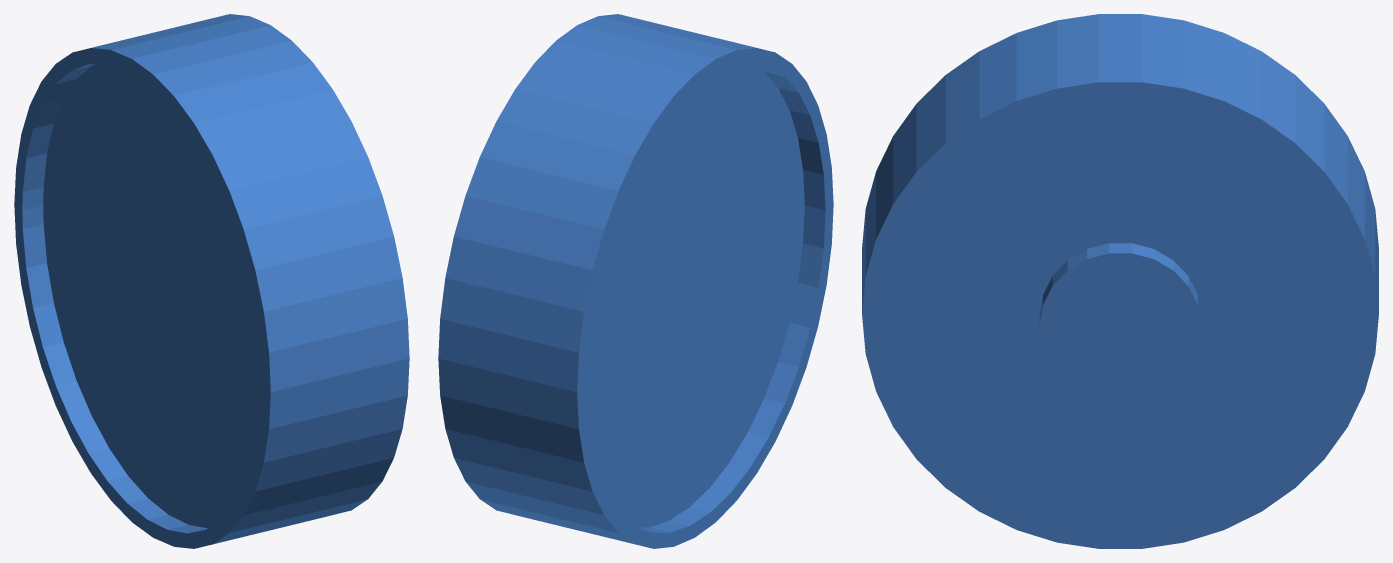
The model's file is wrist_roll_link.dae.
The picture shows the model from 3 angles, left to right: view 1: azimuth 30°, elevation 25°; view 2: azimuth 150°, elevation 25°; view 3: azimuth 270°, elevation 25°; orthographic projection.
Visible parts, largest first — view 1: wrist_roll_link; view 2: wrist_roll_link; view 3: wrist_roll_link.
Part boxes in pixels (<box>): wrist_roll_link: <box>14,14,409,548</box>; wrist_roll_link: <box>438,14,833,548</box>; wrist_roll_link: <box>862,14,1378,548</box>.
Size of the model in its own units: 0.023 by 0.064 by 0.0638.
